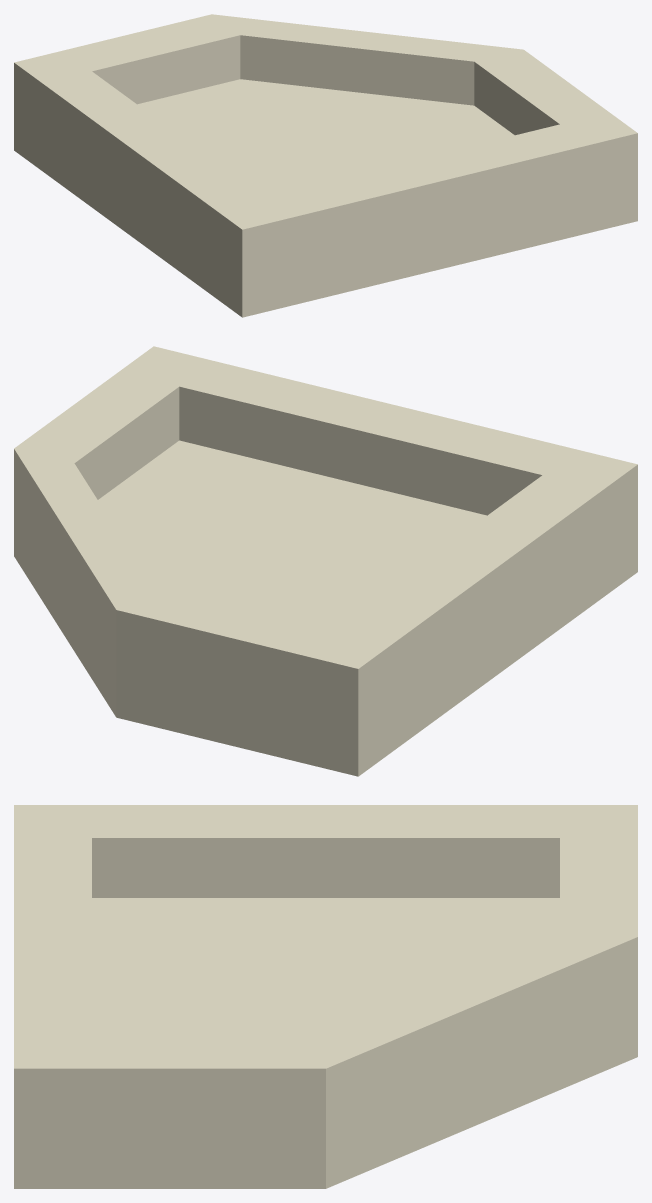
File: building_014.fbx
The picture shows the model from 3 angles, top to bottom: view 1: azimuth 30°, elevation 25°; view 2: azimuth 150°, elevation 25°; view 3: azimuth 270°, elevation 25°; orthographic projection. The views are drawn at different scales.
Parts seen in each view (by area): view 1: building_014; view 2: building_014; view 3: building_014.
Boxes of the visible parts, x1=… form: building_014: x1=14, y1=14, x2=637, y2=317; building_014: x1=14, y1=346, x2=637, y2=776; building_014: x1=14, y1=805, x2=637, y2=1188.
Size of the model in its own units: 10 by 2.12 by 10.
